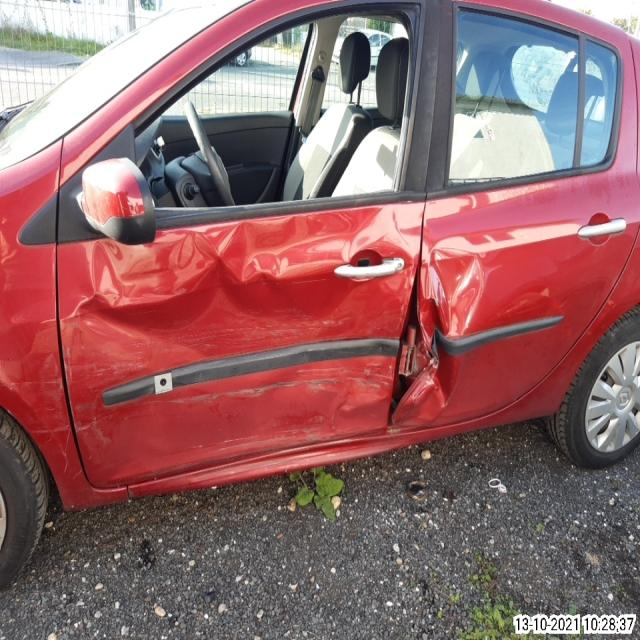porte-avant: (56, 3, 430, 489)
